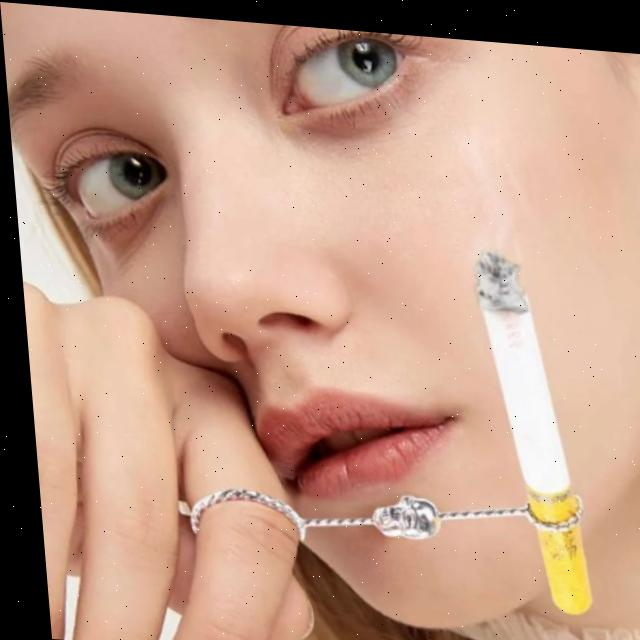cigarette: (466, 239, 588, 610)
